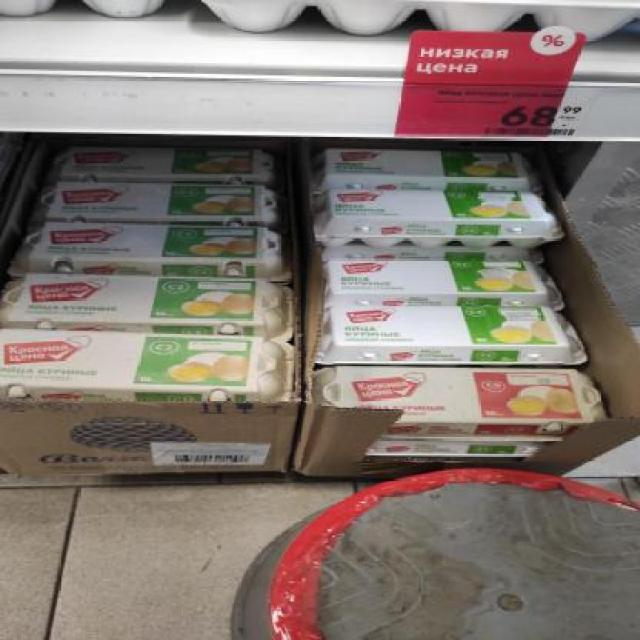egg: (316, 366, 606, 439), (2, 332, 290, 401), (2, 274, 292, 332), (320, 304, 589, 364), (314, 188, 560, 248), (16, 223, 289, 277), (324, 258, 558, 307), (27, 181, 280, 222), (310, 149, 539, 193), (46, 146, 282, 182)
